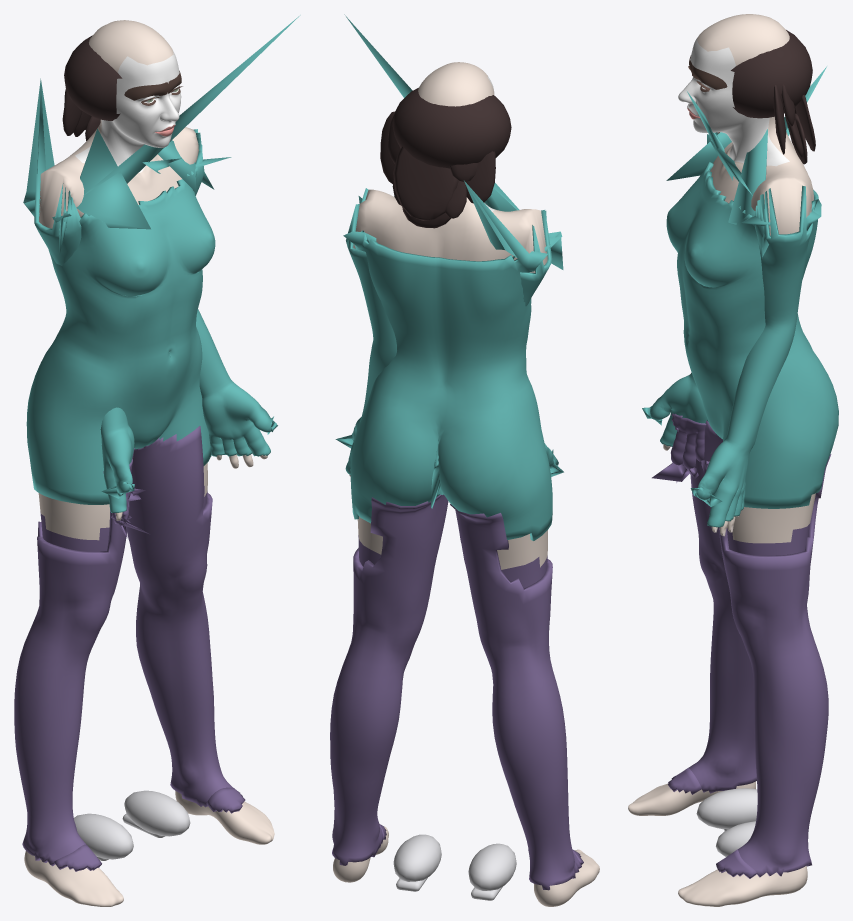
File: hm_ped_suki.glb
3 renders of one model, left to right at view 1: azimuth 30°, elevation 25°; view 2: azimuth 150°, elevation 25°; view 3: azimuth 270°, elevation 25°, orthographic.
Visible parts, largest first — view 1: hm_ped_suki; view 2: hm_ped_suki; view 3: hm_ped_suki.
Part boxes in pixels (<box>): hm_ped_suki: <box>14,15,300,906</box>; hm_ped_suki: <box>330,14,599,906</box>; hm_ped_suki: <box>628,14,838,906</box>.
Size of the model in its own units: 0.5176 by 1.62 by 0.3725.
